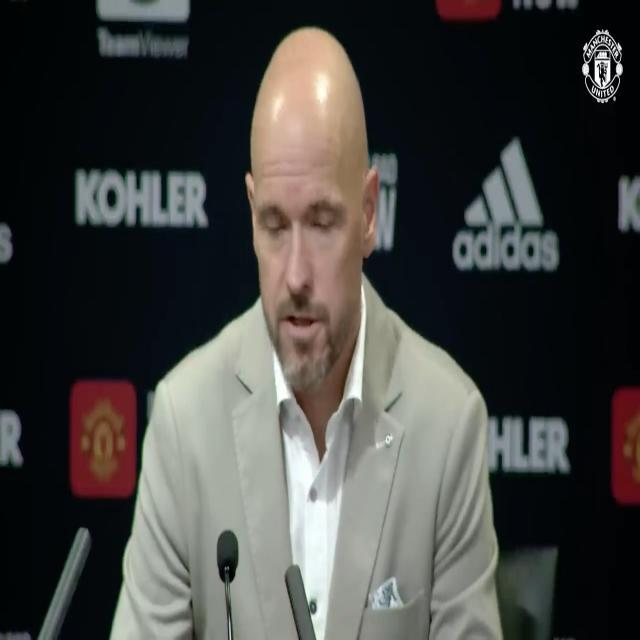Adidas: (453, 135, 560, 272)
Kohler: (76, 169, 208, 228)
TeamViewer: (97, 1, 190, 56)
